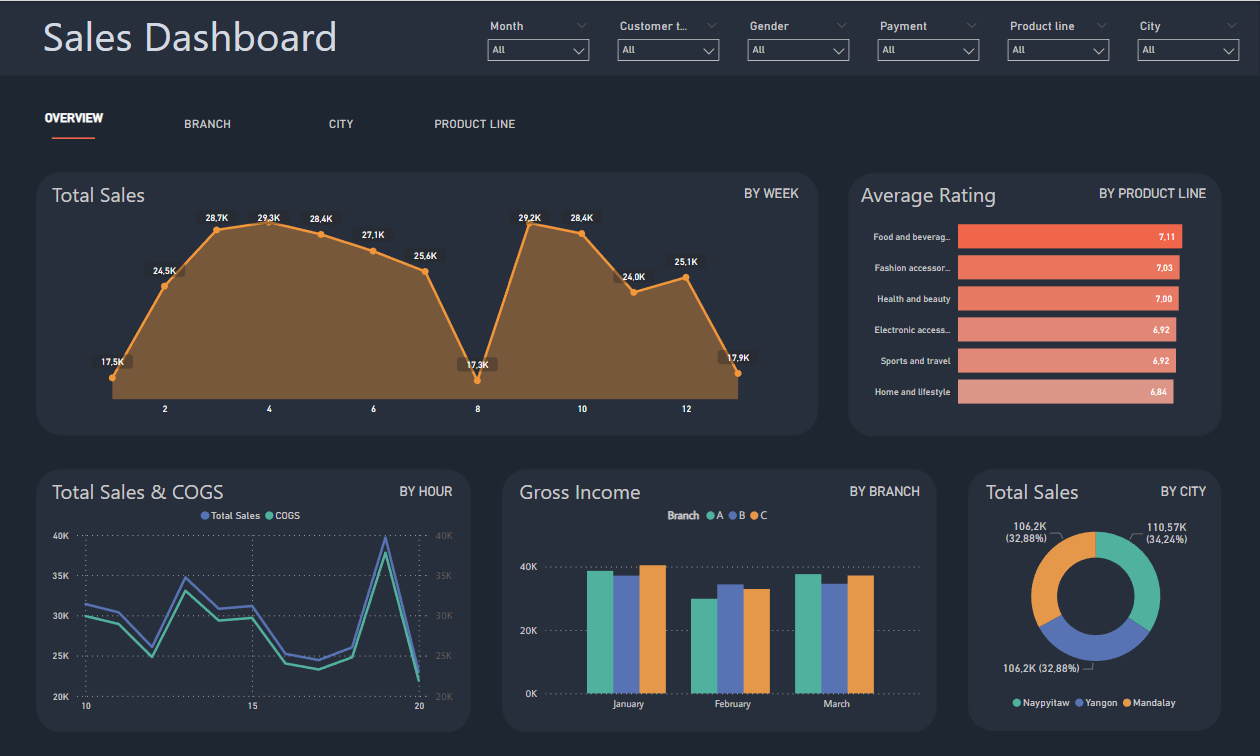

This screenshot's page, from the dashboard's own definition file:
{"tool":"powerbi","page":{"name":"OVERVIEW","canvas":[1500,900],"ordinal":0},"visuals":[{"type":"textbox","title":"Sales Dashboard","box":[40,4.5,374.9,117.5],"z":0},{"type":"pageNavigator","box":[25.3,122,627.8,50.6],"z":1000},{"type":"areaChart","title":"BY WEEK","fields":{"Category":["Worksheet.Week of Year"],"Y":["Sum(Worksheet.Total)"]},"box":[58,221.7,898.5,279.7],"z":2000},{"type":"textbox","box":[58,209.8,139.8,53.6],"z":3000},{"type":"donutChart","title":"BY CITY","fields":{"Category":["Worksheet.City"],"Y":["Worksheet.MeasureTotal"]},"box":[1169.3,575.7,272.2,279.7],"z":4000},{"type":"textbox","box":[1169.3,563.8,139.8,53.6],"z":5000},{"type":"shape","box":[58,456.7,52.1,44.6],"z":6000},{"type":"shape","box":[904.5,456.7,52.1,44.6],"z":7000},{"type":"clusteredColumnChart","title":"BY BRANCH","fields":{"Category":["Worksheet.Date.Variation.Date Hierarchy.Month"],"Series":["Worksheet.Branch"],"Y":["Worksheet.MeasureTotal"]},"box":[614.4,575.7,486.4,279.7],"z":8000},{"type":"textbox","box":[614.4,563.8,168.1,53.6],"z":9000},{"type":"clusteredBarChart","title":"BY PRODUCT LINE","fields":{"Category":["Worksheet.Product line"],"Y":["Avg(Worksheet.Rating)"]},"box":[1023.5,221.7,418,279.7],"z":10000},{"type":"textbox","box":[1020.5,209.8,181.5,53.6],"z":11000},{"type":"lineChart","title":"BY HOUR","fields":{"Category":["Worksheet.Hour"],"Y":["Worksheet.MeasureTotal"],"Y2":["Sum(Worksheet.cogs)"]},"box":[58,575.7,486.4,279.7],"z":12000},{"type":"textbox","box":[58,563.8,224.6,53.6],"z":13000},{"type":"slicer","fields":{"Values":["Worksheet.City"]},"box":[1344.8,17.9,141.3,68.4],"z":14000},{"type":"slicer","fields":{"Values":["Worksheet.Product line"]},"box":[1190.1,17.9,141.3,68.4],"z":15000},{"type":"slicer","fields":{"Values":["Worksheet.Payment"]},"box":[1035.4,17.9,141.3,68.4],"z":16000},{"type":"slicer","fields":{"Values":["Worksheet.Gender"]},"box":[880.7,17.9,141.3,68.4],"z":17000},{"type":"slicer","fields":{"Values":["Worksheet.Customer type"]},"box":[726,17.9,141.3,68.4],"z":18000},{"type":"slicer","fields":{"Values":["Worksheet.Date.Variation.Date Hierarchy.Month"]},"box":[571.2,17.9,141.3,68.4],"z":19000},{"type":"shape","box":[62,147.3,52.1,34.2],"z":20000}]}

Visuals, with their boxes in screenshot pixels (x1, y1, x2, y2), scaled from the page's 1500x900 canvas onto the 1260x756 screenshot:
"Sales Dashboard" textbox: [left=34, top=4, right=349, bottom=102]
pageNavigator: [left=21, top=102, right=549, bottom=145]
"BY WEEK" areaChart: [left=49, top=186, right=803, bottom=421]
textbox: [left=49, top=176, right=166, bottom=221]
"BY CITY" donutChart: [left=982, top=484, right=1211, bottom=719]
textbox: [left=982, top=474, right=1100, bottom=519]
shape: [left=49, top=384, right=92, bottom=421]
shape: [left=760, top=384, right=804, bottom=421]
"BY BRANCH" clusteredColumnChart: [left=516, top=484, right=925, bottom=719]
textbox: [left=516, top=474, right=657, bottom=519]
"BY PRODUCT LINE" clusteredBarChart: [left=860, top=186, right=1211, bottom=421]
textbox: [left=857, top=176, right=1010, bottom=221]
"BY HOUR" lineChart: [left=49, top=484, right=457, bottom=719]
textbox: [left=49, top=474, right=237, bottom=519]
slicer - Worksheet.City: [left=1130, top=15, right=1248, bottom=72]
slicer - Worksheet.Product line: [left=1000, top=15, right=1118, bottom=72]
slicer - Worksheet.Payment: [left=870, top=15, right=988, bottom=72]
slicer - Worksheet.Gender: [left=740, top=15, right=858, bottom=72]
slicer - Worksheet.Customer type: [left=610, top=15, right=729, bottom=72]
slicer - Worksheet.Date.Variation.Date Hierarchy.Month: [left=480, top=15, right=598, bottom=72]
shape: [left=52, top=124, right=96, bottom=152]
